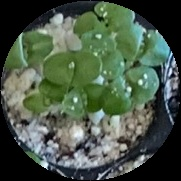Basil: (103, 65, 161, 116), (0, 30, 54, 72), (74, 2, 130, 39), (64, 79, 111, 119), (45, 50, 97, 85), (123, 24, 167, 65), (88, 35, 124, 78), (24, 78, 62, 113)
